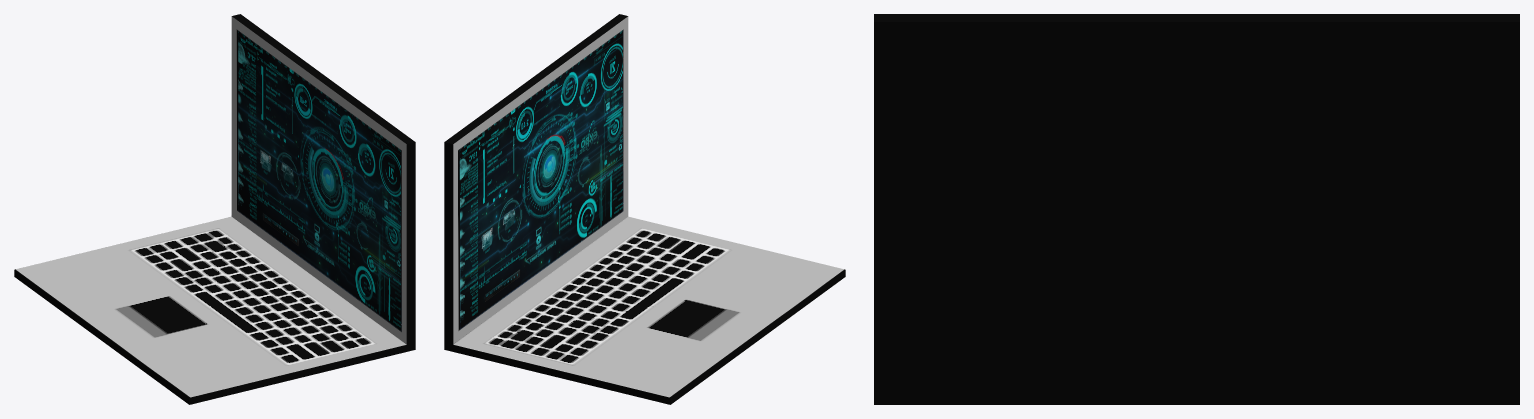
Rendered from Laptop_GenMain5.fbx.
3 views of the same model, side by side, from view 1: azimuth 30°, elevation 25°; view 2: azimuth 150°, elevation 25°; view 3: azimuth 270°, elevation 25° (orthographic). The views are drawn at different scales.
Parts seen in each view (by area): view 1: Laptop; view 2: Laptop; view 3: Laptop.
Part boxes in pixels (left/top/right/bottom): Laptop: left=14, top=14, right=415, bottom=404; Laptop: left=444, top=14, right=845, bottom=404; Laptop: left=874, top=14, right=1519, bottom=404.
Size of the model in its own units: 42.42 by 37.21 by 56.87.
